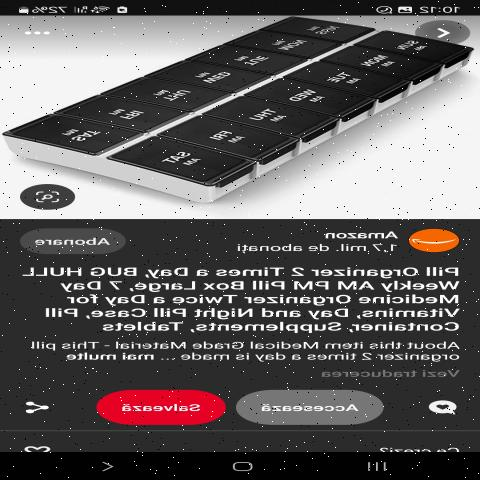Pill-box: (0, 15, 471, 211)
